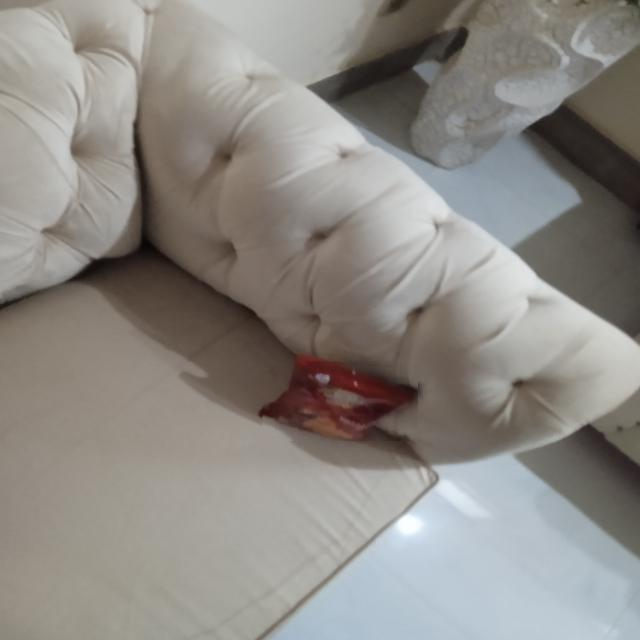Plastic: (262, 362, 418, 442)
